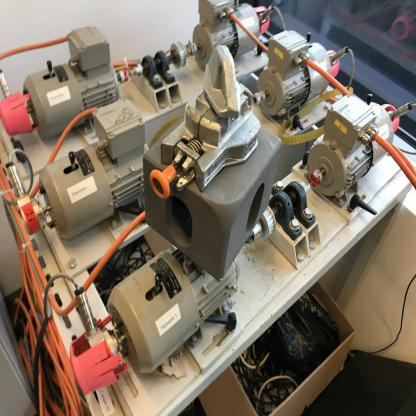CornerCasting: (145, 121, 286, 283)
Twistlock: (149, 43, 262, 200)
